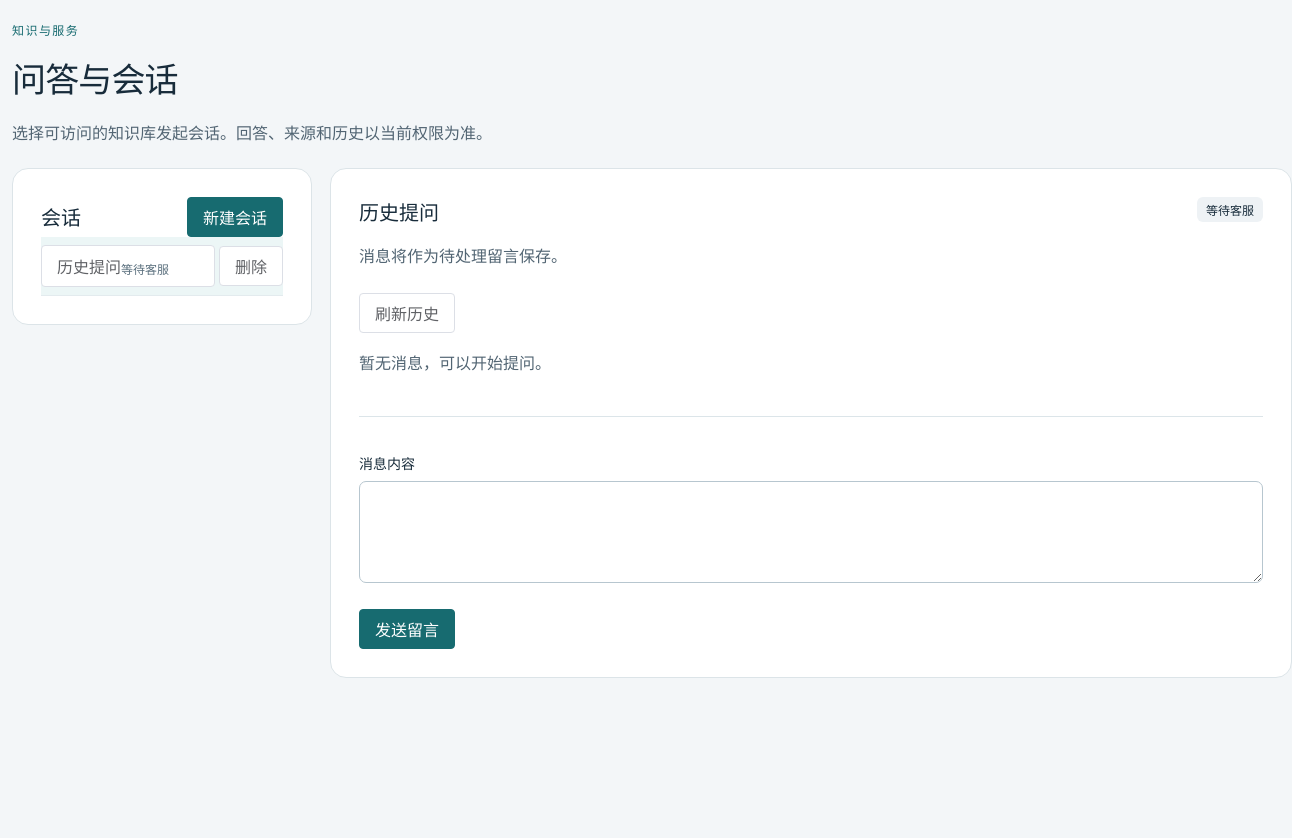
Test case: keeps older loaded messages while polling a queued conversation
Click the button "刷新历史" at (407, 313), box left=359, top=293, right=455, bottom=333
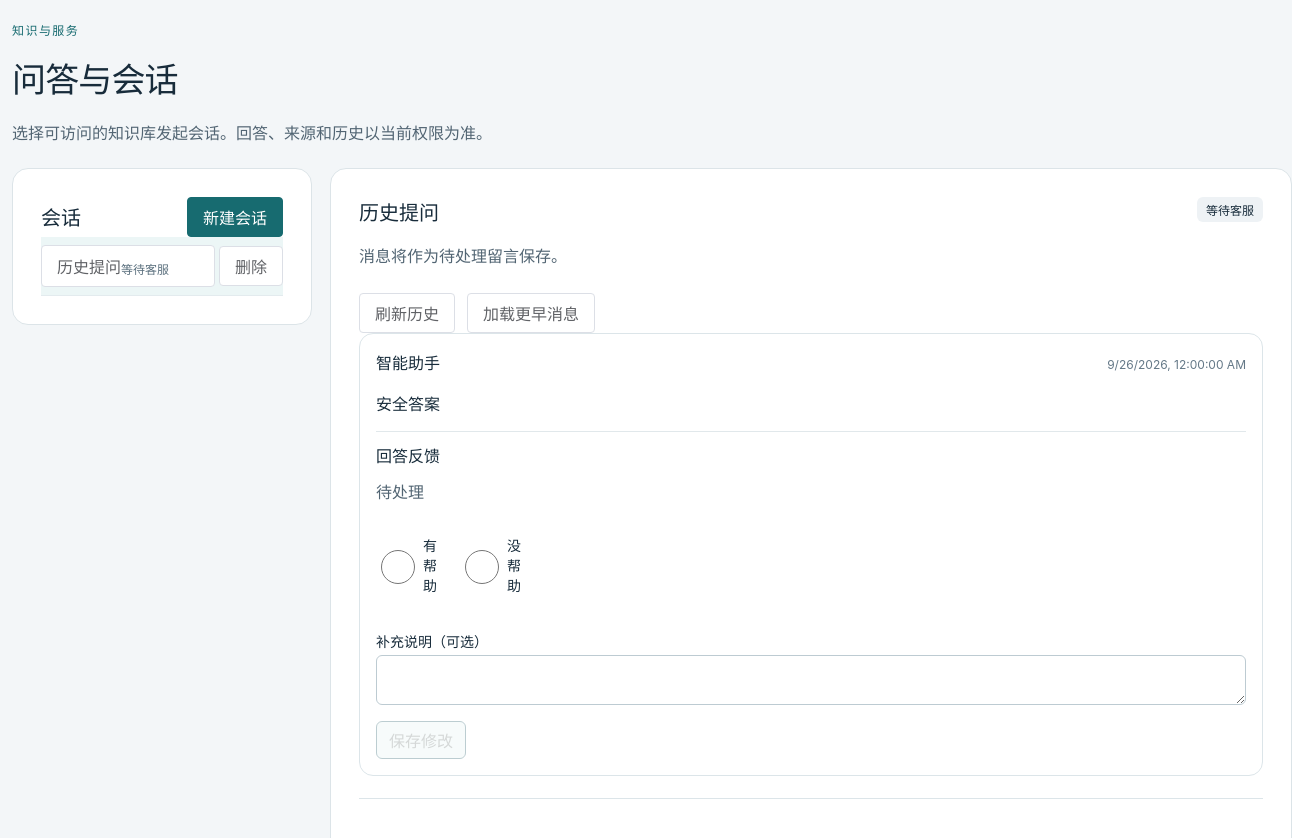
Click the button "加载更早消息" at (531, 313), box left=467, top=293, right=595, bottom=333
Wait 3000 ms
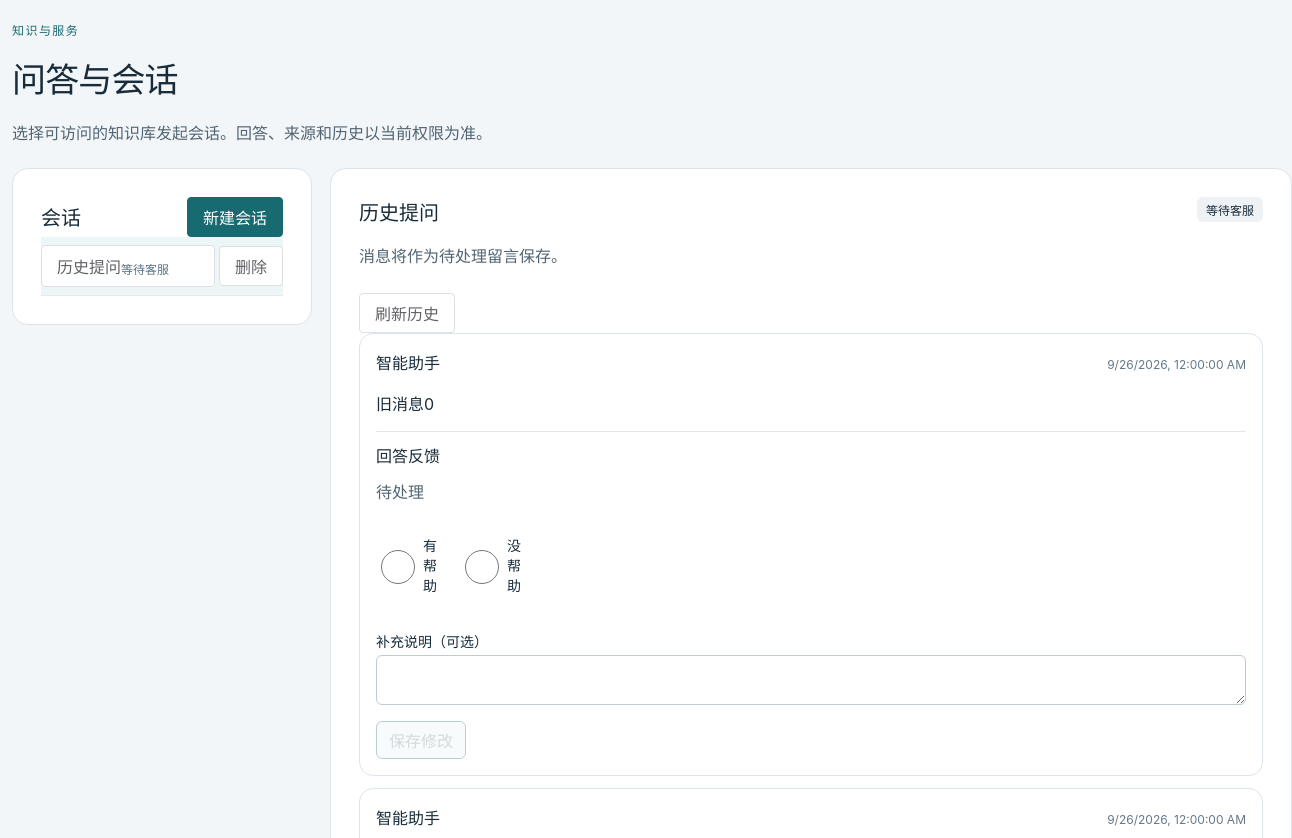
Check: the number of elements with class "message" is 51
